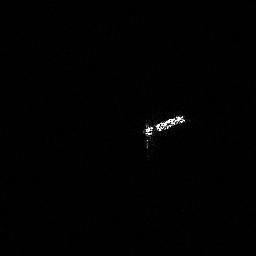ship: (144, 113, 185, 136)
